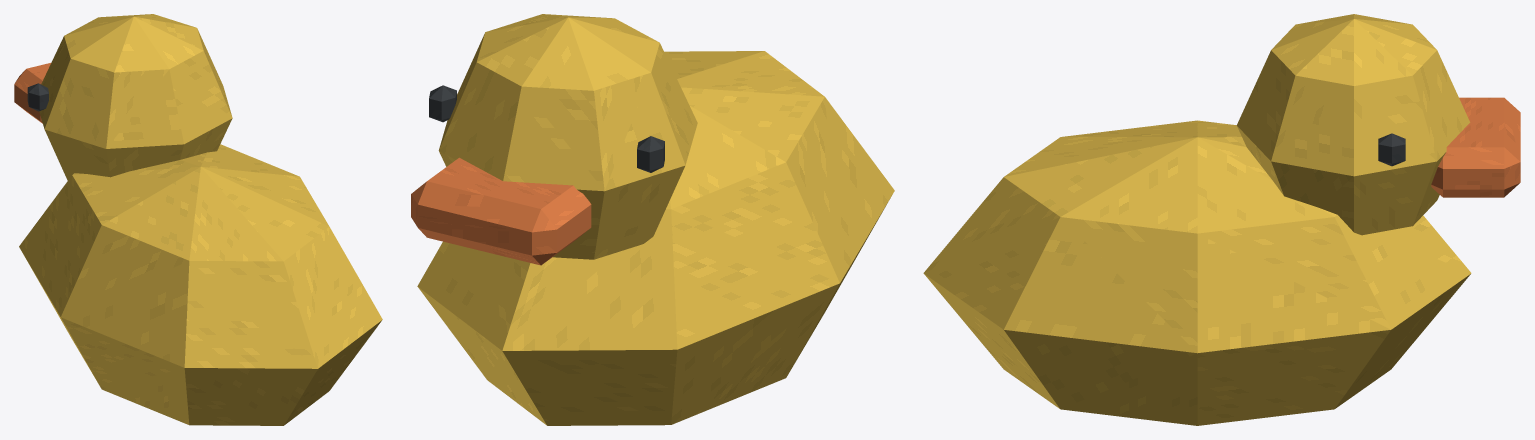
The model's file is bath_toy.glb.
3 views of the same model, side by side, from view 1: azimuth 30°, elevation 25°; view 2: azimuth 150°, elevation 25°; view 3: azimuth 270°, elevation 25° (orthographic). The views are drawn at different scales.
Visible parts, largest first — view 1: block_duck body, block_duck head, block_orange bill, block_painted eye; view 2: block_duck body, block_duck head, block_orange bill, block_painted eye (×2); view 3: block_duck body, block_duck head, block_orange bill, block_painted eye.
Part boxes in pixels (<box>): block_duck body: <box>19,144,382,425</box>; block_duck head: <box>39,14,232,180</box>; block_orange bill: <box>14,63,50,123</box>; block_painted eye: <box>27,83,48,111</box>; block_duck body: <box>417,51,894,425</box>; block_duck head: <box>438,14,697,259</box>; block_orange bill: <box>411,157,591,265</box>; block_painted eye (×2): <box>429,85,664,172</box>; block_duck body: <box>923,120,1471,425</box>; block_duck head: <box>1236,14,1470,235</box>; block_orange bill: <box>1431,97,1520,197</box>; block_painted eye: <box>1378,133,1405,166</box>.
Bounding box in the file's own units: 0.0431 × 0.049 × 0.068.
Materials: 1 (1 with a texture image).
